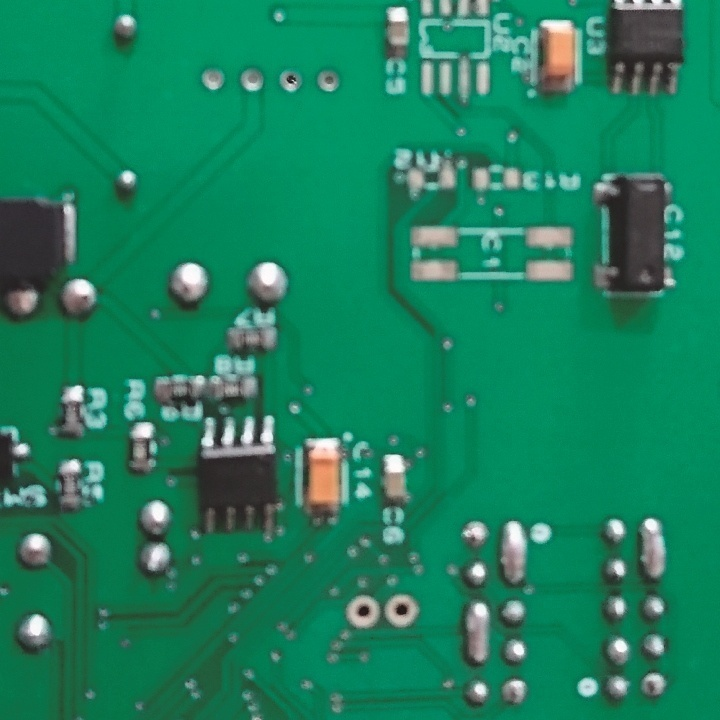F: (382, 592, 422, 635), (344, 594, 380, 631), (236, 63, 269, 95), (313, 62, 342, 97), (460, 517, 490, 549), (640, 672, 669, 703), (275, 63, 304, 93), (499, 677, 530, 705), (199, 62, 225, 92)
P: (462, 600, 494, 666), (499, 518, 529, 587), (639, 513, 667, 583)
